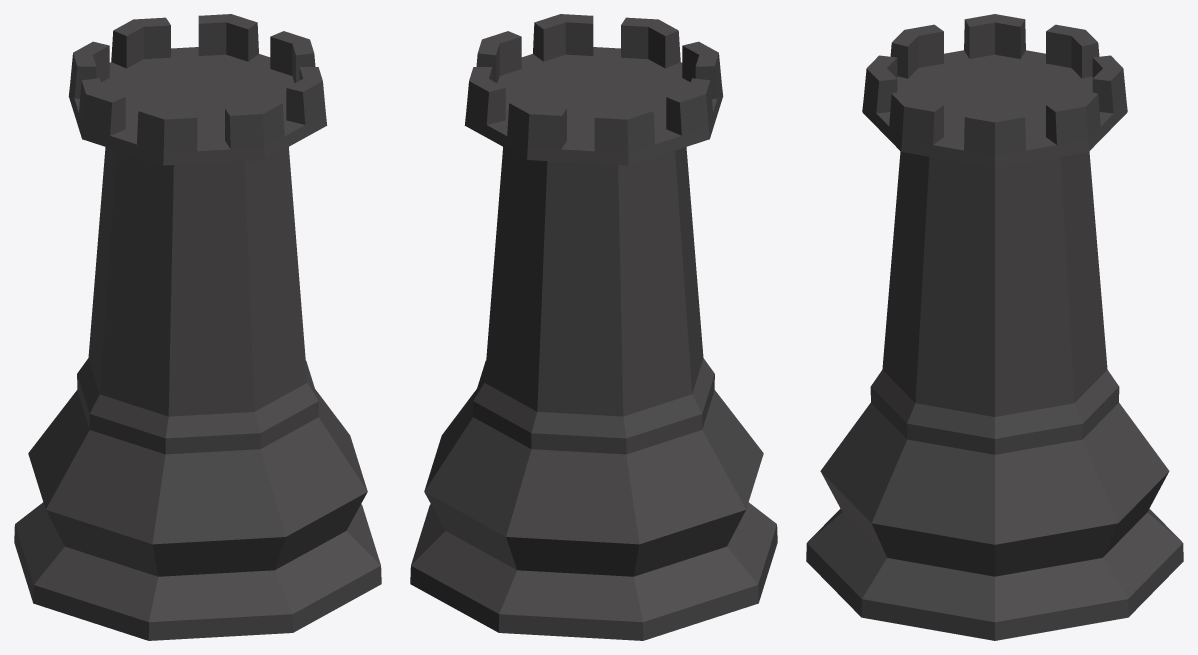
The model's file is Chess_Black_Rook_1.fbx.
3 views of the same model, side by side, from view 1: azimuth 30°, elevation 25°; view 2: azimuth 150°, elevation 25°; view 3: azimuth 270°, elevation 25° (orthographic).
Parts seen in each view (by area): view 1: Chess_Black_Rook_1; view 2: Chess_Black_Rook_1; view 3: Chess_Black_Rook_1.
Part boxes in pixels (x1,y1,x2,y2): Chess_Black_Rook_1: (14, 14, 381, 640); Chess_Black_Rook_1: (410, 14, 777, 640); Chess_Black_Rook_1: (806, 14, 1183, 640).
Bounding box in the file's own units: 3.76 × 3.76 × 5.41.
